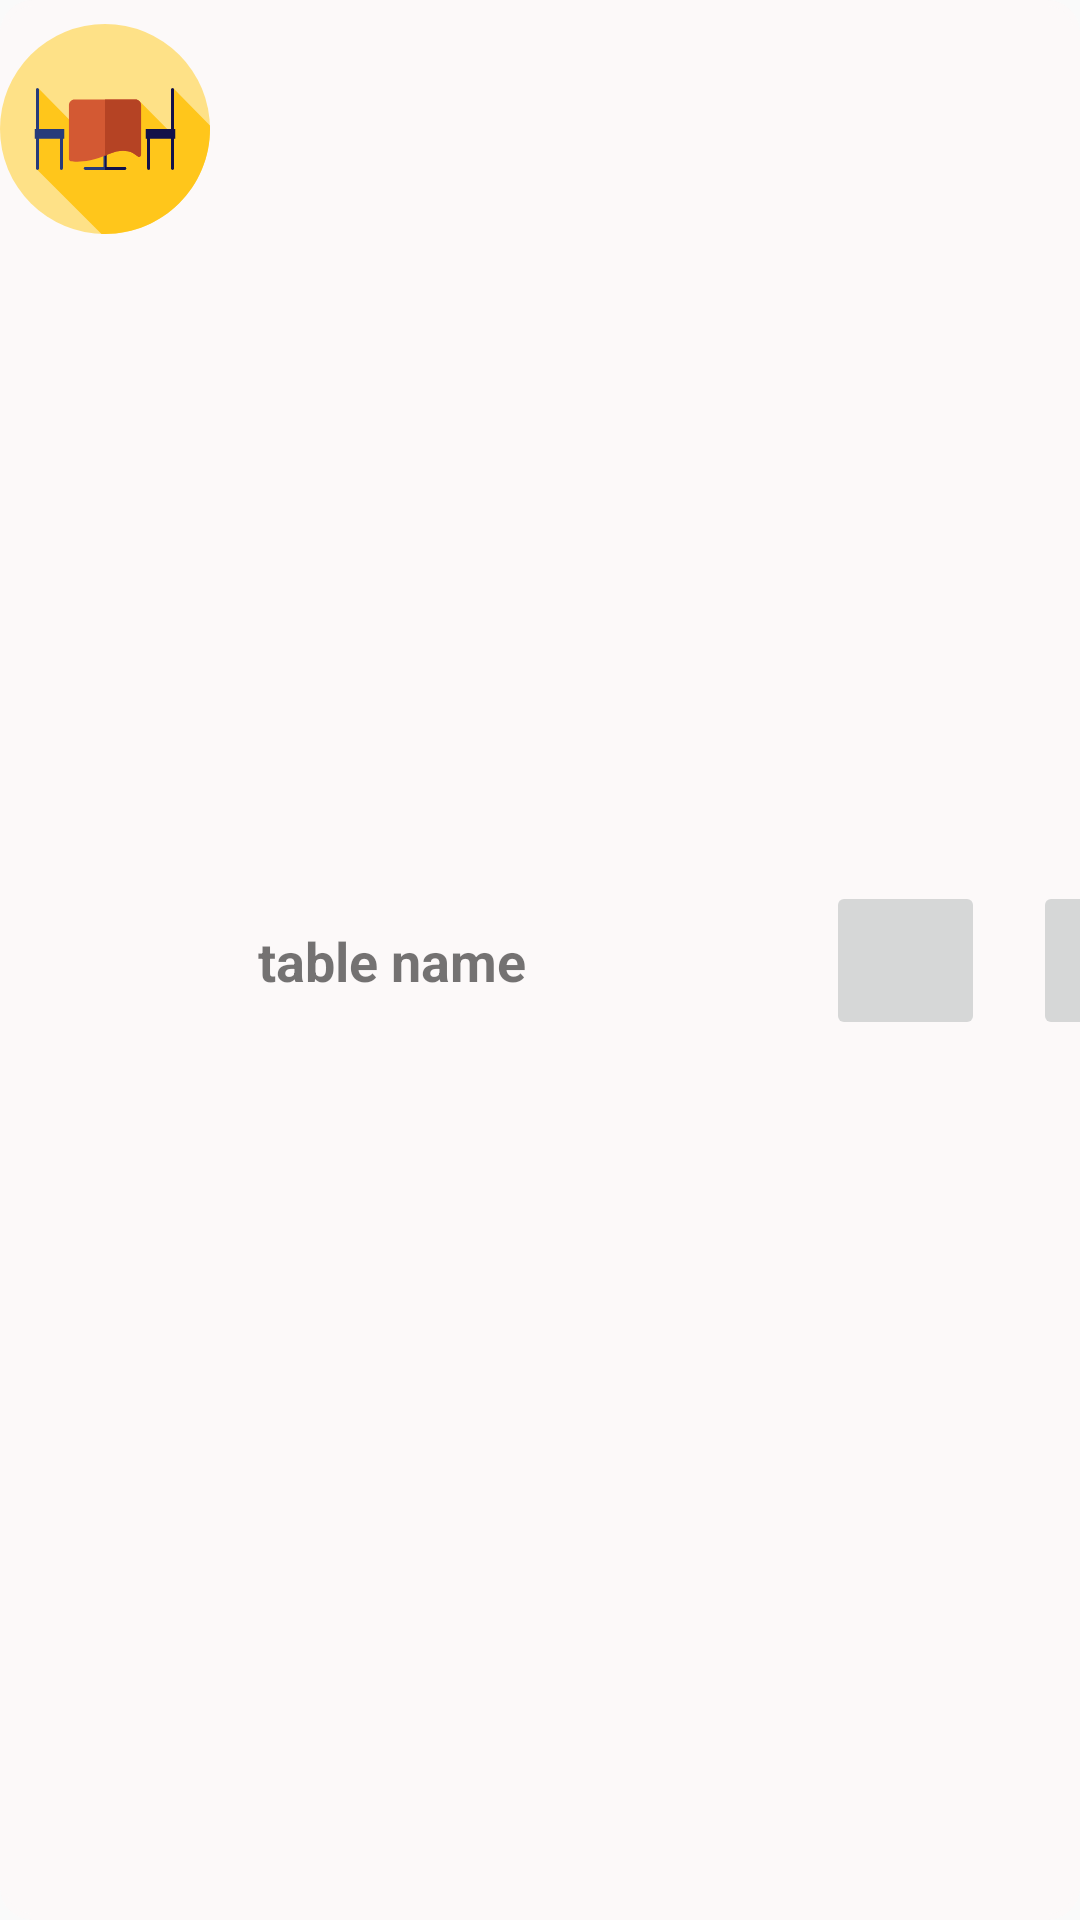

Named icons in this screenshot (1080 x 1920) and their bounding boxes, (x1, y1, x2, y2):
table: (0, 24, 210, 234)
